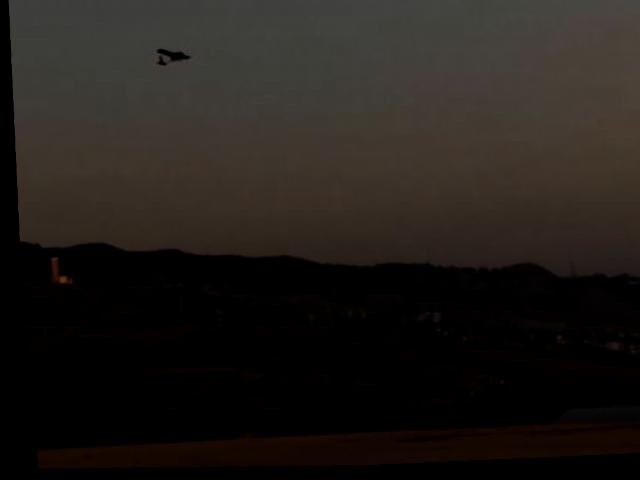uav: (148, 40, 195, 77)
